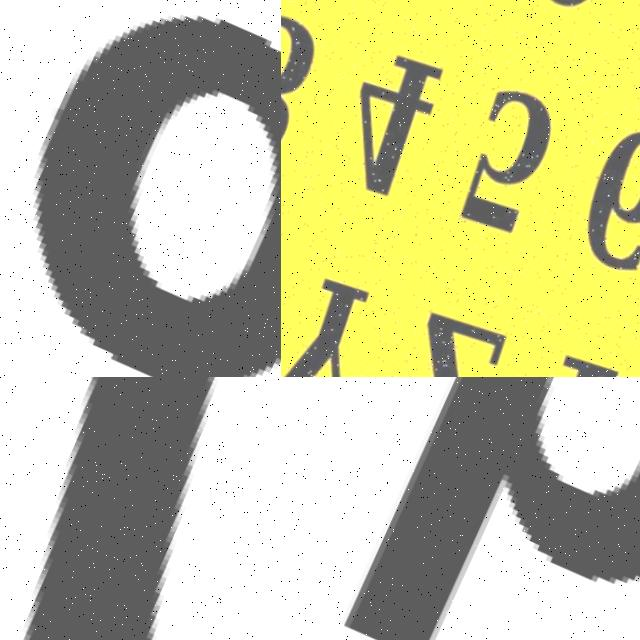0: (487, 0, 640, 56)
1: (499, 332, 640, 377)
3: (281, 0, 349, 197)
4: (308, 22, 473, 218)
5: (422, 66, 583, 258)
6: (532, 95, 640, 325)
9: (0, 0, 281, 377)
H: (322, 377, 640, 640)
N: (0, 377, 281, 640)
